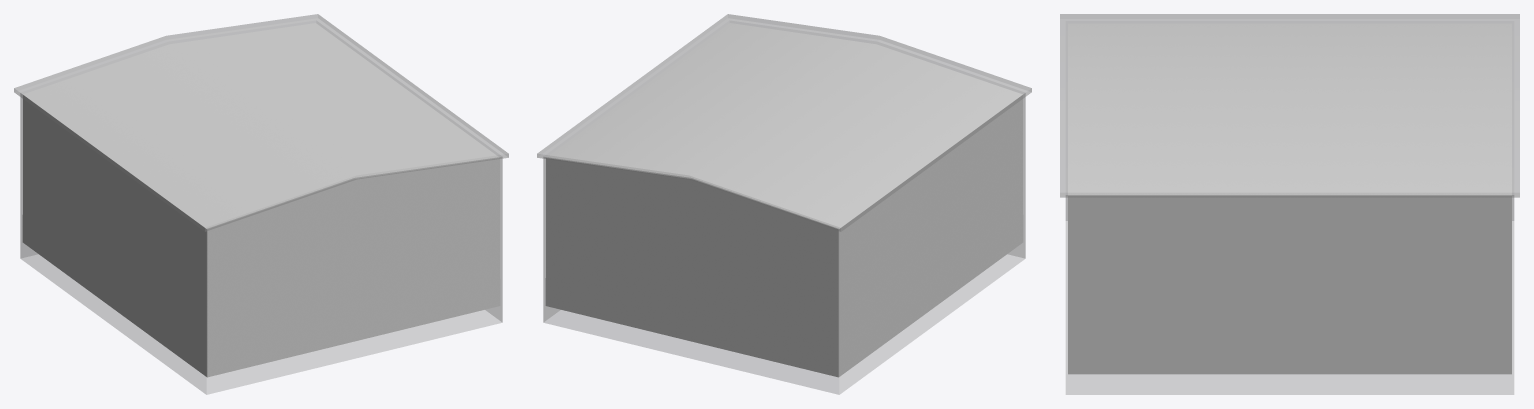
File: LWZHGK_GJSB_ZT.FBX
3 renders of one model, left to right at view 1: azimuth 30°, elevation 25°; view 2: azimuth 150°, elevation 25°; view 3: azimuth 270°, elevation 25°, orthographic. The views are drawn at different scales.
Visible parts, largest first — view 1: LWZHGK_AnQiao_023, LWZHGK_AnQiao_034; view 2: LWZHGK_AnQiao_023, LWZHGK_AnQiao_034; view 3: LWZHGK_AnQiao_023, LWZHGK_AnQiao_034.
Part boxes in pixels (x1,y1,x2,y2): LWZHGK_AnQiao_023: (14,14,508,394); LWZHGK_AnQiao_034: (22,23,500,377); LWZHGK_AnQiao_023: (537,14,1031,394); LWZHGK_AnQiao_034: (545,23,1023,377); LWZHGK_AnQiao_023: (1060,14,1519,394); LWZHGK_AnQiao_034: (1068,23,1511,374).
Size of the model in its own units: 11304 by 6577 by 12285.
